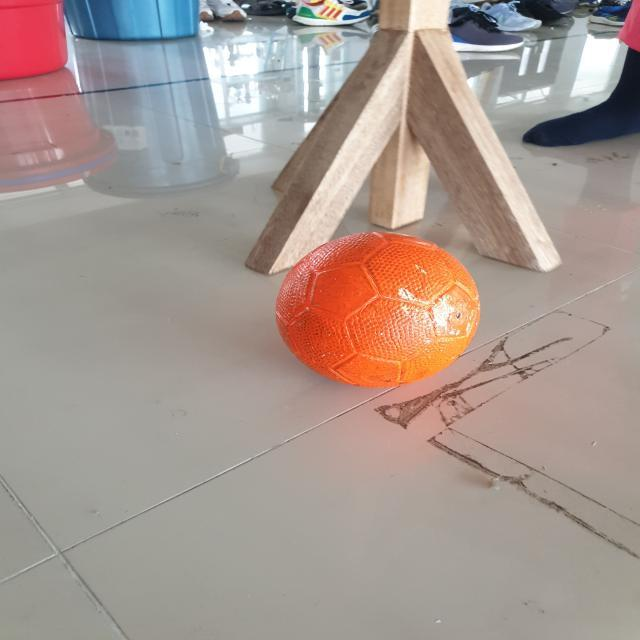bola: (264, 229, 490, 407)
